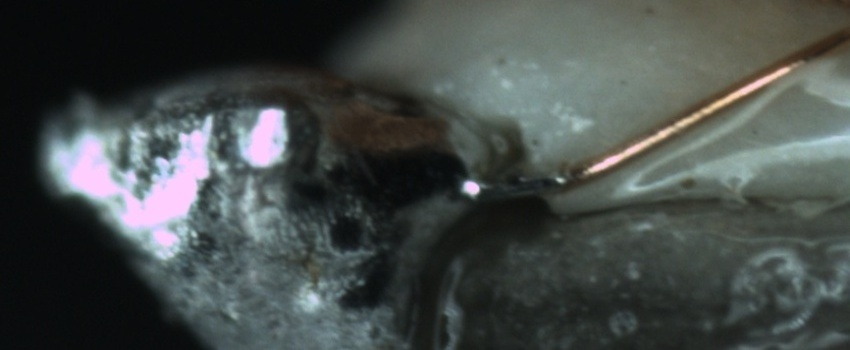TS: (485, 170, 569, 200)
